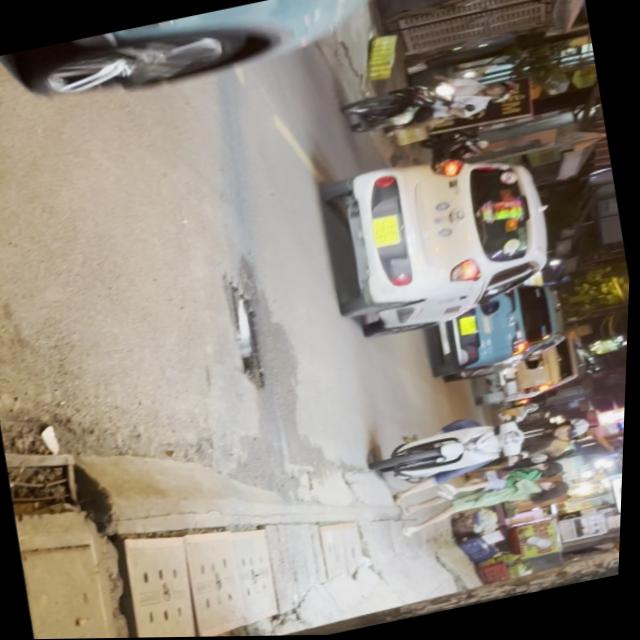helmet: (554, 416, 596, 445), (483, 78, 521, 100)
licenseplate: (368, 393, 603, 502), (340, 60, 525, 145)
